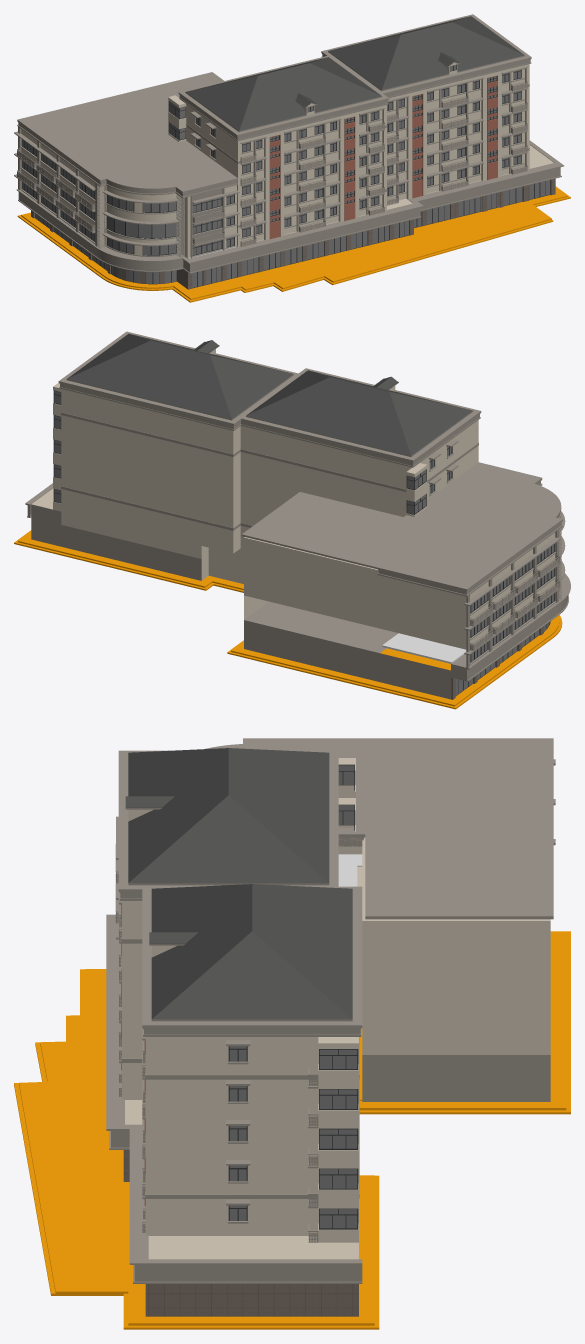
The model's file is 213_gai.FBX.
The picture shows the model from 3 angles, top to bottom: view 1: azimuth 30°, elevation 25°; view 2: azimuth 150°, elevation 25°; view 3: azimuth 270°, elevation 25°; orthographic projection. The views are drawn at different scales.
Parts seen in each view (by area): view 1: 213_gai, Arc020, Line1378, Line1379, Line1383, Arc016, Line023, Line1381, Arc018, Arc019; view 2: 213_gai, Arc020, Line003, Line1383, Line1381, Arc018, Line1379, Arc019, Line010; view 3: 213_gai, Arc020, Line1378, Line023.
Part boxes in pixels (x1=…): 213_gai: x1=14, y1=14, x2=570, y2=297; Arc020: x1=17, y1=72, x2=237, y2=193; Line1378: x1=184, y1=204, x2=551, y2=299; Line1379: x1=35, y1=180, x2=550, y2=287; Line1383: x1=18, y1=192, x2=183, y2=270; Arc016: x1=35, y1=180, x2=550, y2=288; Line023: x1=246, y1=220, x2=553, y2=292; Line1381: x1=16, y1=189, x2=185, y2=261; Arc018: x1=18, y1=122, x2=237, y2=196; Arc019: x1=17, y1=125, x2=237, y2=198; 213_gai: x1=14, y1=331, x2=565, y2=709; Arc020: x1=241, y1=462, x2=562, y2=590; Line003: x1=382, y1=633, x2=466, y2=663; Line1383: x1=451, y1=596, x2=567, y2=680; Line1381: x1=451, y1=573, x2=570, y2=669; Arc018: x1=378, y1=481, x2=561, y2=594; Line1379: x1=455, y1=622, x2=548, y2=695; Arc019: x1=377, y1=483, x2=562, y2=596; Line010: x1=380, y1=648, x2=450, y2=670; 213_gai: x1=106, y1=748, x2=570, y2=1329; Arc020: x1=205, y1=738, x2=553, y2=919; Line1378: x1=19, y1=969, x2=128, y2=1295; Line023: x1=14, y1=1017, x2=70, y2=1295.
Bounding box in the file's own units: 60800 × 22600 × 35476.
